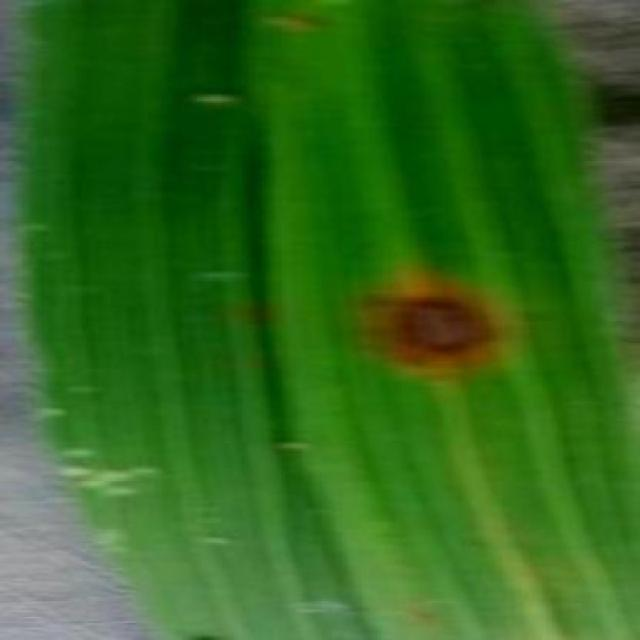Bacterial_Leaf_Blight: (338, 268, 518, 392)
Leaf_Blast: (248, 0, 358, 48), (178, 73, 256, 124), (400, 588, 451, 638), (230, 294, 279, 335), (452, 522, 502, 560), (508, 298, 555, 334), (175, 612, 237, 639), (522, 552, 562, 592), (489, 509, 522, 545)
